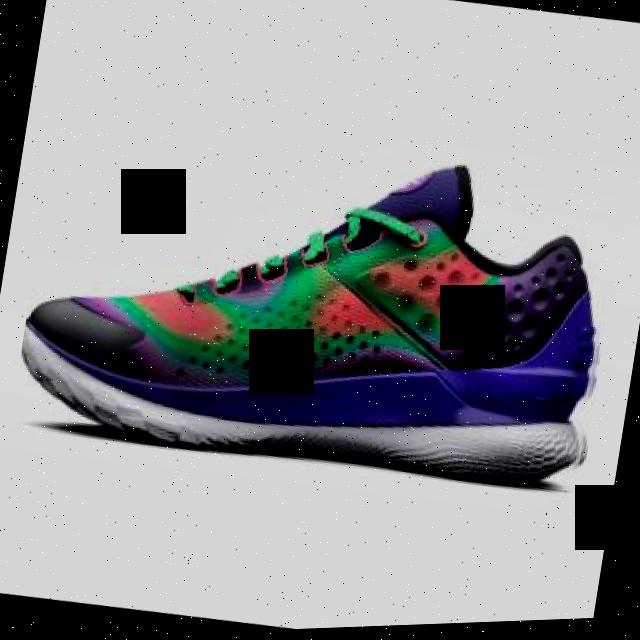shoe: (10, 99, 631, 514)
